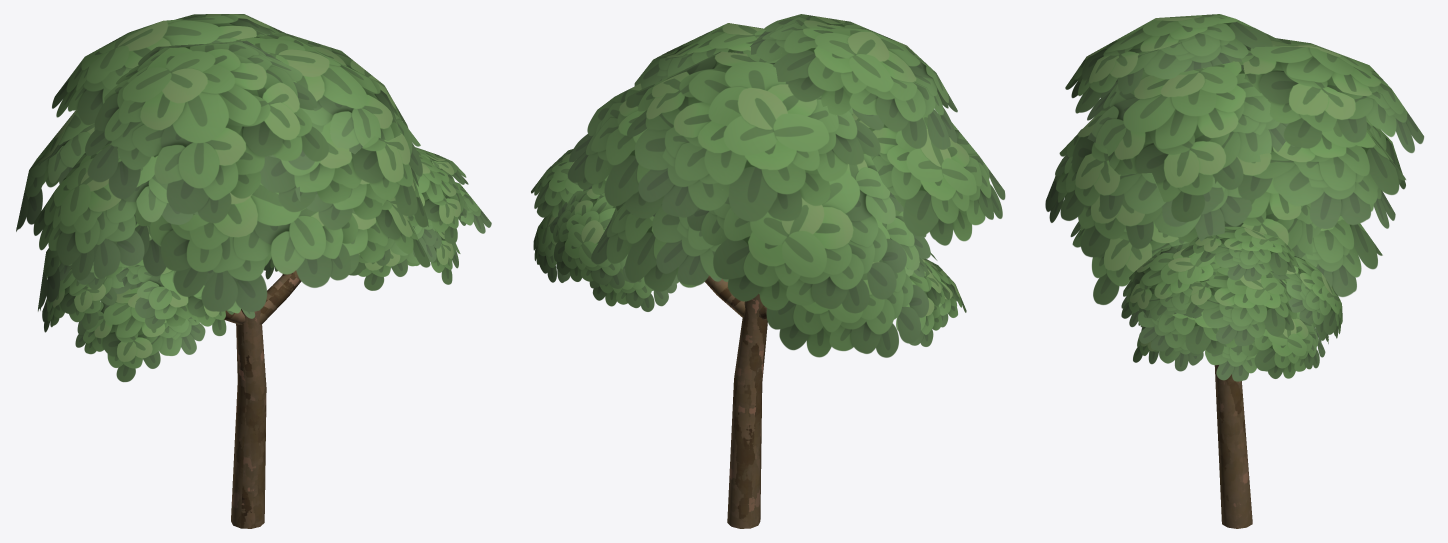
File: ArbolLigth.glb
The picture shows the model from 3 angles, left to right: view 1: azimuth 30°, elevation 25°; view 2: azimuth 150°, elevation 25°; view 3: azimuth 270°, elevation 25°; orthographic projection. The views are drawn at different scales.
Visible parts, largest first — view 1: Tree_7; view 2: Tree_7; view 3: Tree_7.
Boxes of the visible parts, bbox=[...] form: Tree_7: bbox=[16, 14, 491, 528]; Tree_7: bbox=[531, 14, 1005, 528]; Tree_7: bbox=[1045, 14, 1424, 528].
Bounding box in the file's own units: 5.55 × 5.87 × 4.47.
Materials: 2 (2 with a texture image).
